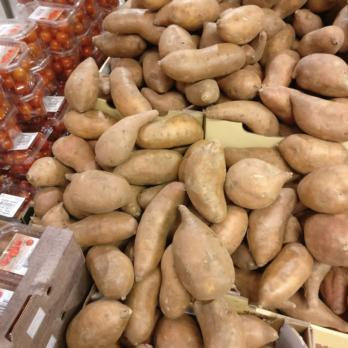Sweet potato: (111, 0, 348, 348), (63, 56, 142, 216), (26, 158, 65, 224)
